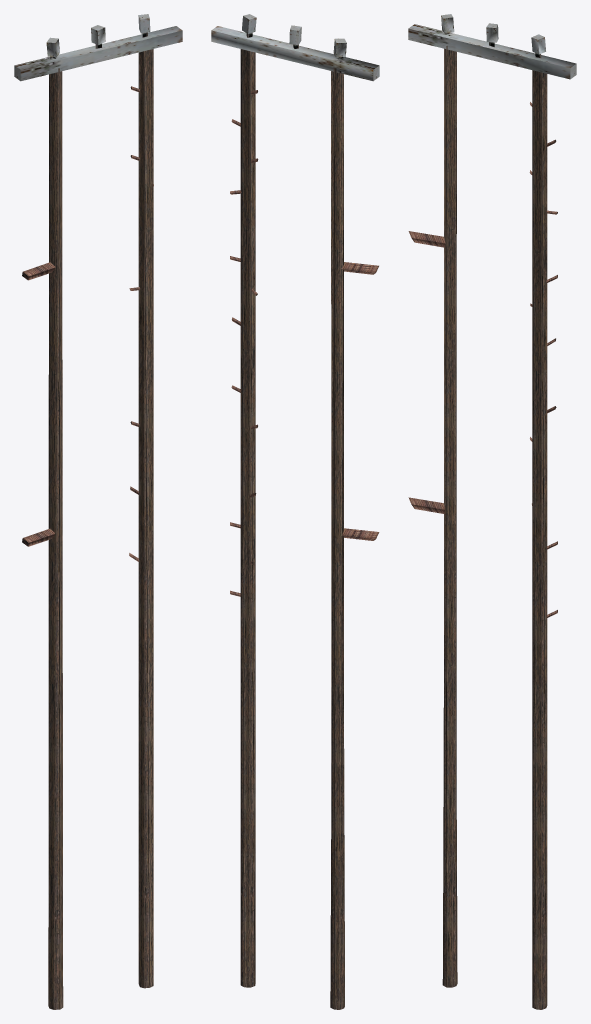
Rendered from telepol2.glb.
The picture shows the model from 3 angles, left to right: view 1: azimuth 30°, elevation 25°; view 2: azimuth 150°, elevation 25°; view 3: azimuth 330°, elevation 25°; orthographic projection.
Parts seen in each view (by area): view 1: _telepol2; view 2: _telepol2; view 3: _telepol2.
Part boxes in pixels (x1,y1,x2,y2): _telepol2: (14, 14, 182, 1009); _telepol2: (211, 14, 379, 1009); _telepol2: (408, 14, 576, 1009).
Size of the model in its own units: 3.42 by 19.57 by 0.4435.
Materials: 1 (1 with a texture image).
